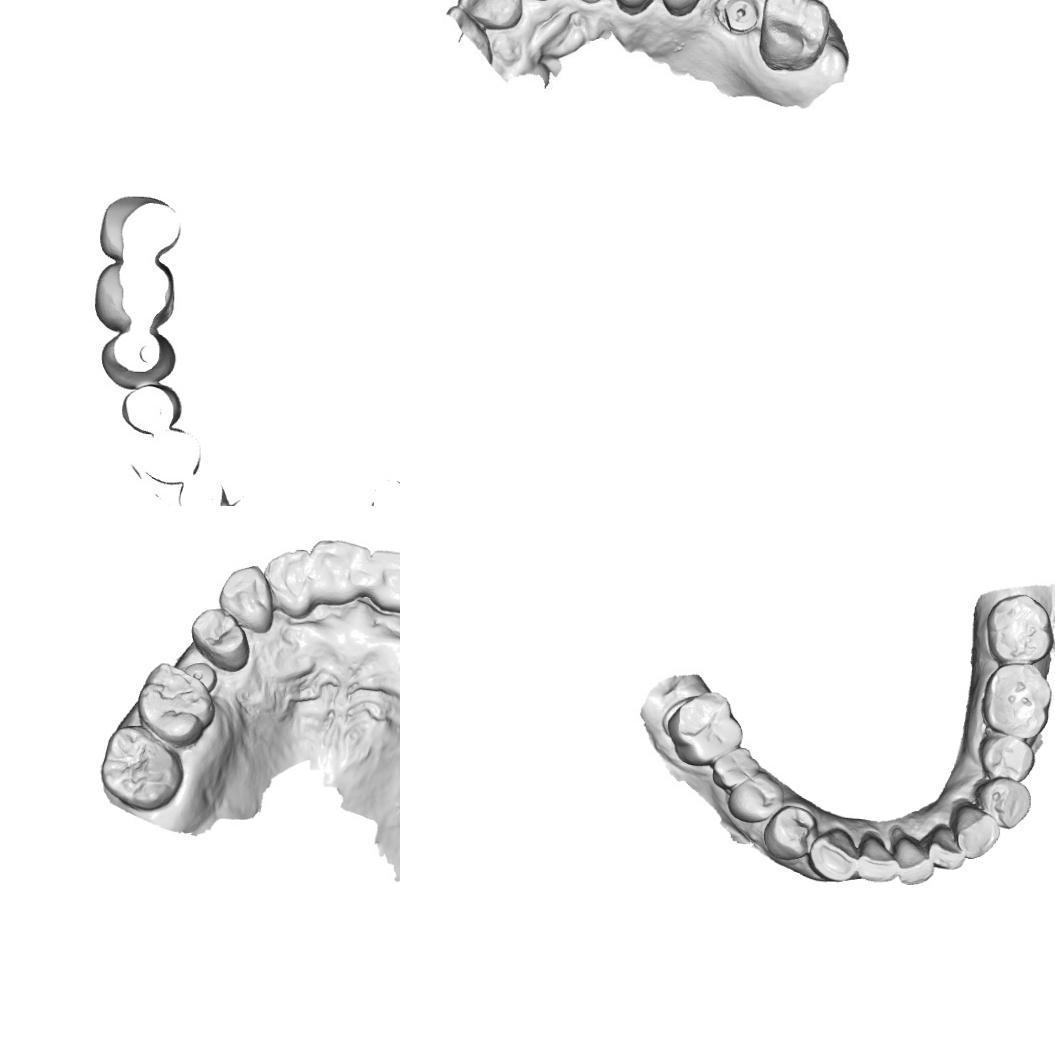canine: (217, 562, 275, 634), (805, 826, 862, 884), (949, 801, 1002, 860)
implant: (182, 660, 220, 694)
implant_minus: (716, 0, 761, 40)
incisor: (310, 538, 372, 607), (262, 548, 314, 620), (856, 832, 902, 884), (894, 836, 938, 887), (367, 547, 400, 613), (456, 0, 523, 30), (927, 824, 965, 872)
molar: (99, 726, 188, 812), (136, 660, 218, 748), (667, 688, 745, 768), (757, 0, 833, 71), (984, 660, 1052, 739), (984, 592, 1055, 665), (710, 743, 760, 789)
premolar: (190, 606, 252, 674), (726, 770, 782, 826), (978, 732, 1040, 782), (763, 806, 815, 863), (974, 776, 1030, 828), (657, 0, 716, 17)
